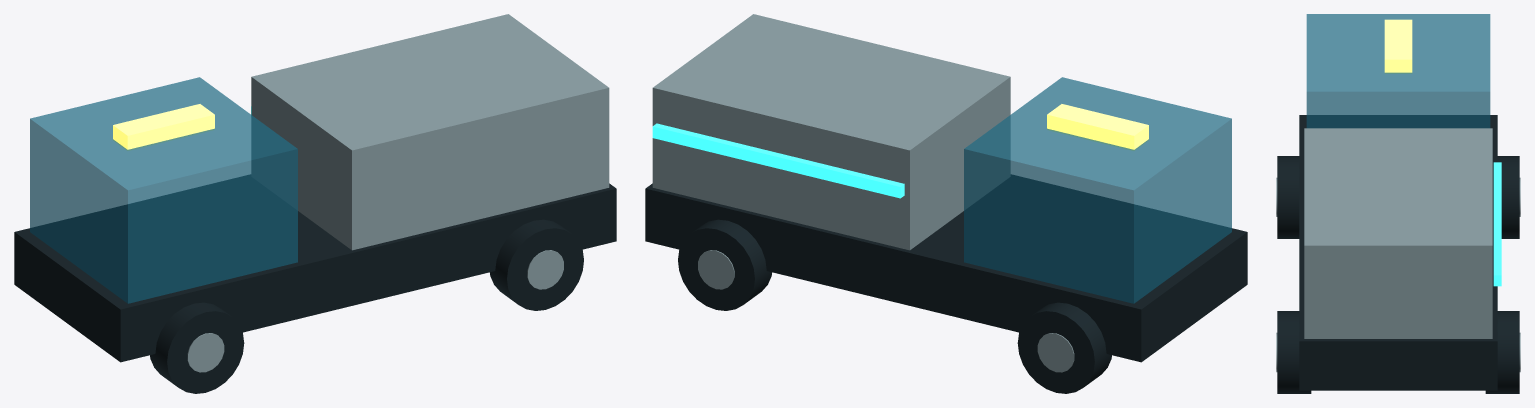
The model's file is vehicle-service-truck.glb.
3 views of the same model, side by side, from view 1: azimuth 30°, elevation 25°; view 2: azimuth 150°, elevation 25°; view 3: azimuth 270°, elevation 25° (orthographic). The views are drawn at different scales.
Visible parts, largest first — view 1: service truck utility box, service truck chassis, service truck cab, service truck wheel 1 right, service truck wheel 2 right, service truck amber lightbar, service truck wheel hub 1 right, service truck wheel hub 2 right; view 2: service truck utility box, service truck chassis, service truck cab, service truck wheel 1 left, service truck wheel 2 left, service truck side cyan stripe, service truck amber lightbar, service truck wheel hub 1 left, service truck wheel hub 2 left; view 3: service truck utility box, service truck cab, service truck chassis, service truck wheel 2 left, service truck wheel 2 right, service truck wheel 1 right, service truck wheel 1 left, service truck amber lightbar, service truck side cyan stripe.
Part boxes in pixels (<box>): service truck utility box: <box>251,14,609,250</box>; service truck chassis: <box>14,174,616,362</box>; service truck cab: <box>30,77,297,303</box>; service truck wheel 1 right: <box>150,302,244,393</box>; service truck wheel 2 right: <box>489,219,583,310</box>; service truck amber lightbar: <box>113,104,214,150</box>; service truck wheel hub 1 right: <box>187,333,224,372</box>; service truck wheel hub 2 right: <box>527,250,563,289</box>; service truck utility box: <box>652,14,1010,250</box>; service truck chassis: <box>645,174,1247,362</box>; service truck cab: <box>964,77,1231,303</box>; service truck wheel 1 left: <box>1017,302,1111,393</box>; service truck wheel 2 left: <box>678,219,772,310</box>; service truck side cyan stripe: <box>652,123,904,198</box>; service truck amber lightbar: <box>1047,104,1148,150</box>; service truck wheel hub 1 left: <box>1037,333,1074,372</box>; service truck wheel hub 2 left: <box>698,250,734,289</box>; service truck utility box: <box>1304,128,1492,338</box>; service truck cab: <box>1306,14,1490,128</box>; service truck chassis: <box>1299,115,1497,390</box>; service truck wheel 2 left: <box>1485,311,1519,393</box>; service truck wheel 2 right: <box>1277,311,1311,393</box>; service truck wheel 1 right: <box>1277,156,1299,238</box>; service truck wheel 1 left: <box>1497,156,1519,238</box>; service truck amber lightbar: <box>1384,19,1412,73</box>; service truck side cyan stripe: <box>1493,162,1501,286</box>.
Bounding box in the file's own units: 5.4 × 2.29 × 2.46.
